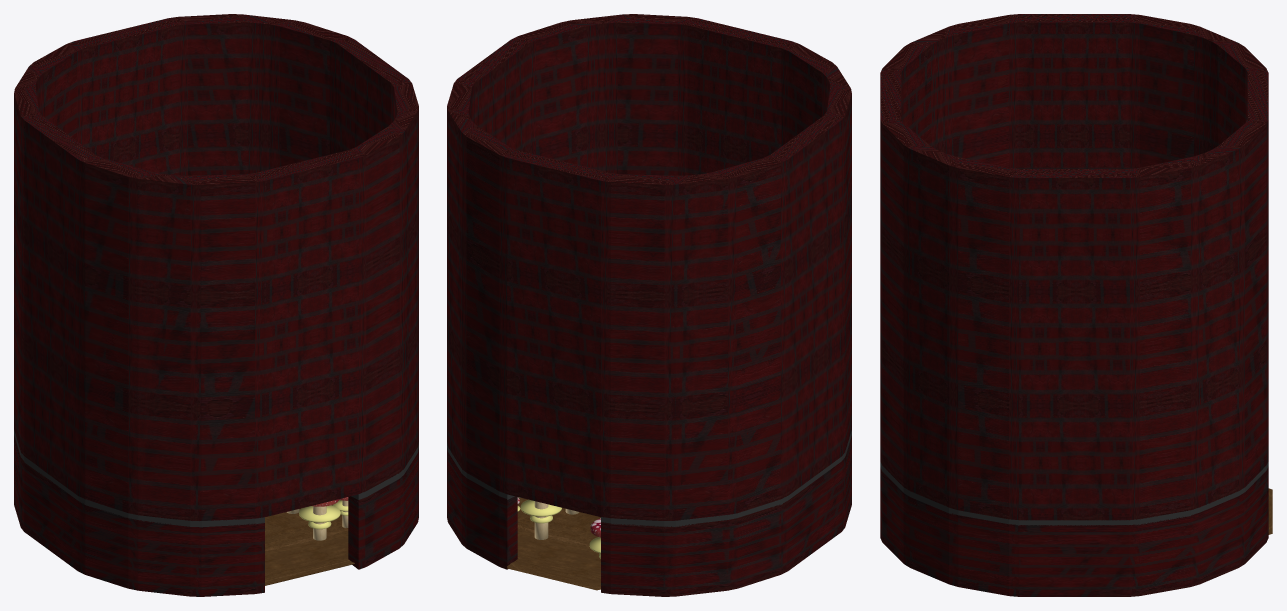
File: Level1.fbx
The picture shows the model from 3 angles, left to right: view 1: azimuth 30°, elevation 25°; view 2: azimuth 150°, elevation 25°; view 3: azimuth 270°, elevation 25°; orthographic projection.
Parts seen in each view (by area): view 1: Cube.002, Cube.001, Cube, Cube.005; view 2: Cube.002, Cube.001, Cube, Cube.005; view 3: Cube.002, Cube.001, Cube.005.
Part boxes in pixels (left/top/right/bottom): Cube.002: left=14, top=14, right=418, bottom=520; Cube.001: left=14, top=435, right=418, bottom=596; Cube: left=265, top=504, right=354, bottom=585; Cube.005: left=14, top=430, right=418, bottom=527; Cube.002: left=447, top=14, right=851, bottom=520; Cube.001: left=447, top=436, right=851, bottom=596; Cube: left=507, top=498, right=600, bottom=590; Cube.005: left=447, top=430, right=851, bottom=527; Cube.002: left=880, top=14, right=1268, bottom=520; Cube.001: left=880, top=466, right=1268, bottom=596; Cube.005: left=880, top=462, right=1268, bottom=525.
Bounding box in the file's own units: 3089 × 3836 × 3121.
